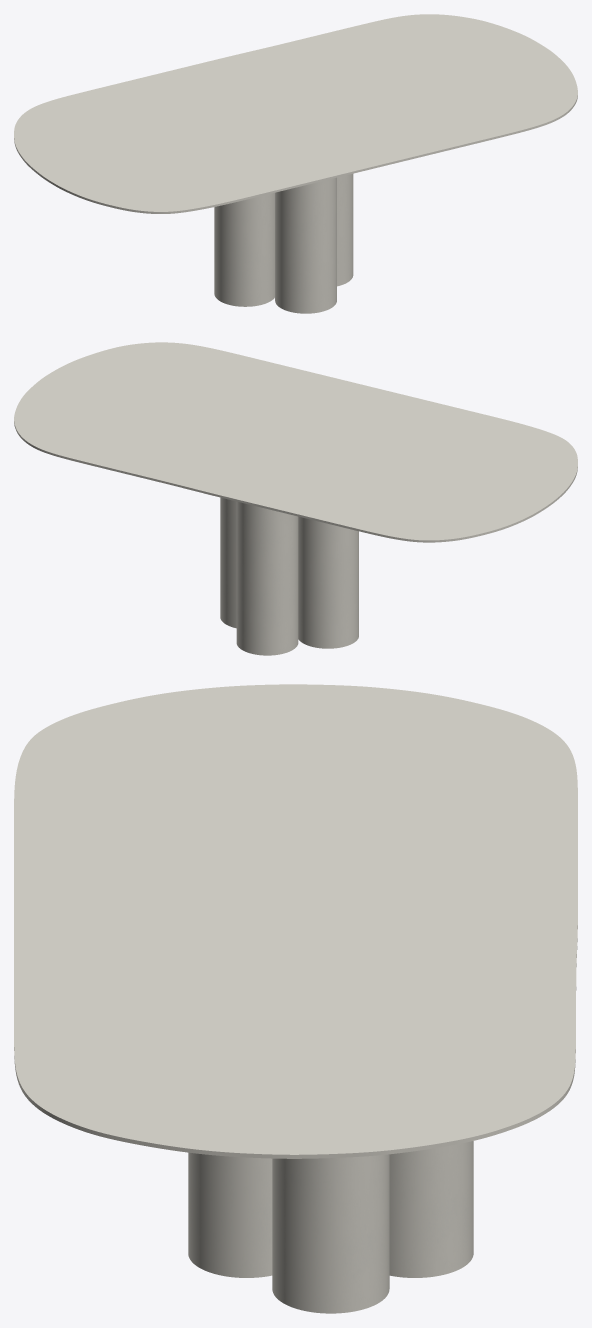
File: pale_oval_facet_secondtable.glb
3 views of the same model, one above another, from view 1: azimuth 30°, elevation 25°; view 2: azimuth 150°, elevation 25°; view 3: azimuth 270°, elevation 25° (orthographic). The views are drawn at different scales.
Visible parts, largest first — view 1: facet_oval, secondtable; view 2: facet_oval, secondtable; view 3: facet_oval, secondtable.
Part boxes in pixels (left/top/right/bottom): facet_oval: left=14, top=14, right=577, bottom=213; secondtable: left=214, top=174, right=353, bottom=313; facet_oval: left=14, top=342, right=577, bottom=542; secondtable: left=220, top=497, right=358, bottom=655; facet_oval: left=14, top=684, right=577, bottom=1158; secondtable: left=188, top=1141, right=473, bottom=1313.
Size of the model in its own units: 7.5 by 2.5 by 3.8.
Materials: 1 (1 with a texture image).
